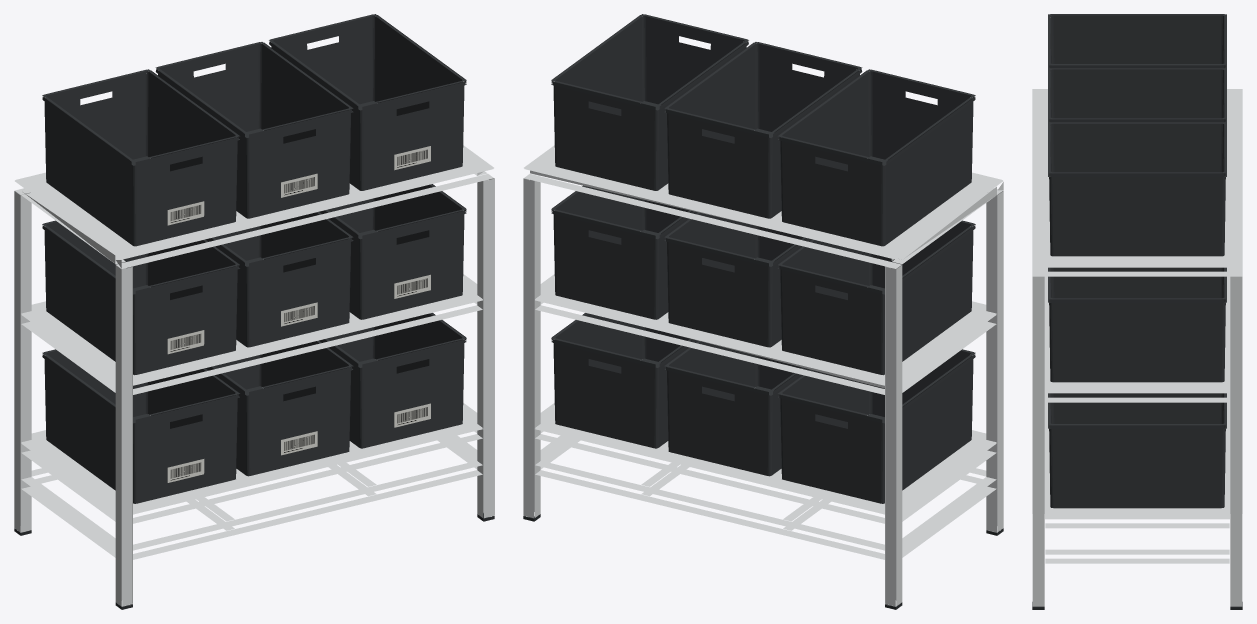
The model's file is shelf_loaded_LOD2.glb.
3 renders of one model, left to right at view 1: azimuth 30°, elevation 25°; view 2: azimuth 150°, elevation 25°; view 3: azimuth 270°, elevation 25°, orthographic. The views are drawn at different scales.
Visible parts, largest first — view 1: Rack_FrameAndDecks, Bin_L03_C01, Bin_L03_C02, Bin_L03_C03, Bin_L02_C01, Bin_L01_C01, Bin_L02_C02, Bin_L01_C02, Bin_L02_C03, Bin_L01_C03; view 2: Rack_FrameAndDecks, Bin_L03_C01, Bin_L03_C02, Bin_L03_C03, Bin_L02_C01, Bin_L01_C01, Bin_L01_C03, Bin_L02_C02, Bin_L01_C02, Bin_L02_C03; view 3: Rack_FrameAndDecks, Bin_L03_C03, Bin_L02_C03, Bin_L01_C03, Bin_L03_C01, Bin_L03_C02.
Part boxes in pixels (left/top/right/bottom): Rack_FrameAndDecks: left=14, top=145, right=494, bottom=606; Bin_L03_C01: left=42, top=69, right=239, bottom=246; Bin_L03_C02: left=155, top=42, right=353, bottom=218; Bin_L03_C03: left=269, top=14, right=466, bottom=190; Bin_L02_C01: left=42, top=220, right=239, bottom=375; Bin_L01_C01: left=42, top=349, right=239, bottom=503; Bin_L02_C02: left=206, top=211, right=353, bottom=347; Bin_L01_C02: left=206, top=340, right=353, bottom=476; Bin_L02_C03: left=319, top=184, right=466, bottom=319; Bin_L01_C03: left=319, top=313, right=466, bottom=448; Rack_FrameAndDecks: left=523, top=145, right=1003, bottom=606; Bin_L03_C01: left=778, top=69, right=975, bottom=246; Bin_L03_C02: left=664, top=42, right=862, bottom=218; Bin_L03_C03: left=551, top=14, right=748, bottom=190; Bin_L02_C01: left=778, top=220, right=975, bottom=375; Bin_L01_C01: left=778, top=349, right=975, bottom=503; Bin_L01_C03: left=551, top=313, right=697, bottom=448; Bin_L02_C02: left=664, top=212, right=811, bottom=347; Bin_L01_C02: left=664, top=340, right=809, bottom=476; Bin_L02_C03: left=551, top=185, right=697, bottom=319; Rack_FrameAndDecks: left=1032, top=89, right=1242, bottom=606; Bin_L03_C03: left=1048, top=122, right=1226, bottom=256; Bin_L02_C03: left=1048, top=267, right=1226, bottom=382; Bin_L01_C03: left=1048, top=393, right=1226, bottom=508; Bin_L03_C01: left=1048, top=14, right=1226, bottom=68; Bin_L03_C02: left=1048, top=68, right=1226, bottom=122.
Bounding box in the file's own units: 1 × 1.12 × 0.5.
4 materials, 1 textured.
